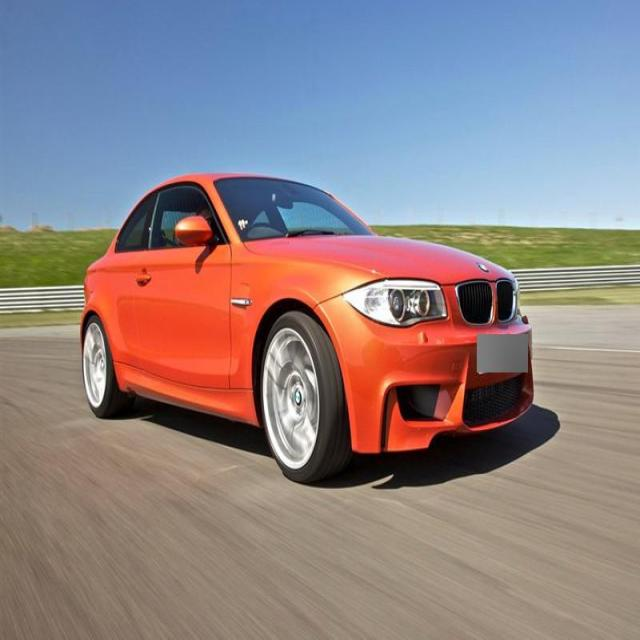door: (110, 201, 160, 386)
front_bumper: (307, 274, 537, 454)
front_glass: (212, 175, 378, 244)
front_right_side_door: (140, 181, 234, 395)
front_right_side_light: (342, 276, 448, 328)
front_right_side_mirror: (174, 213, 218, 246)
wheel: (257, 308, 355, 484), (82, 314, 132, 419)
